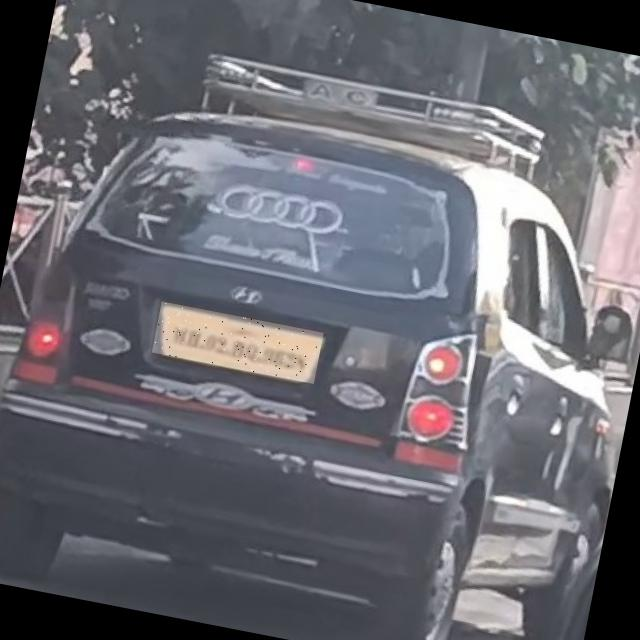Plate: (153, 303, 325, 385)
